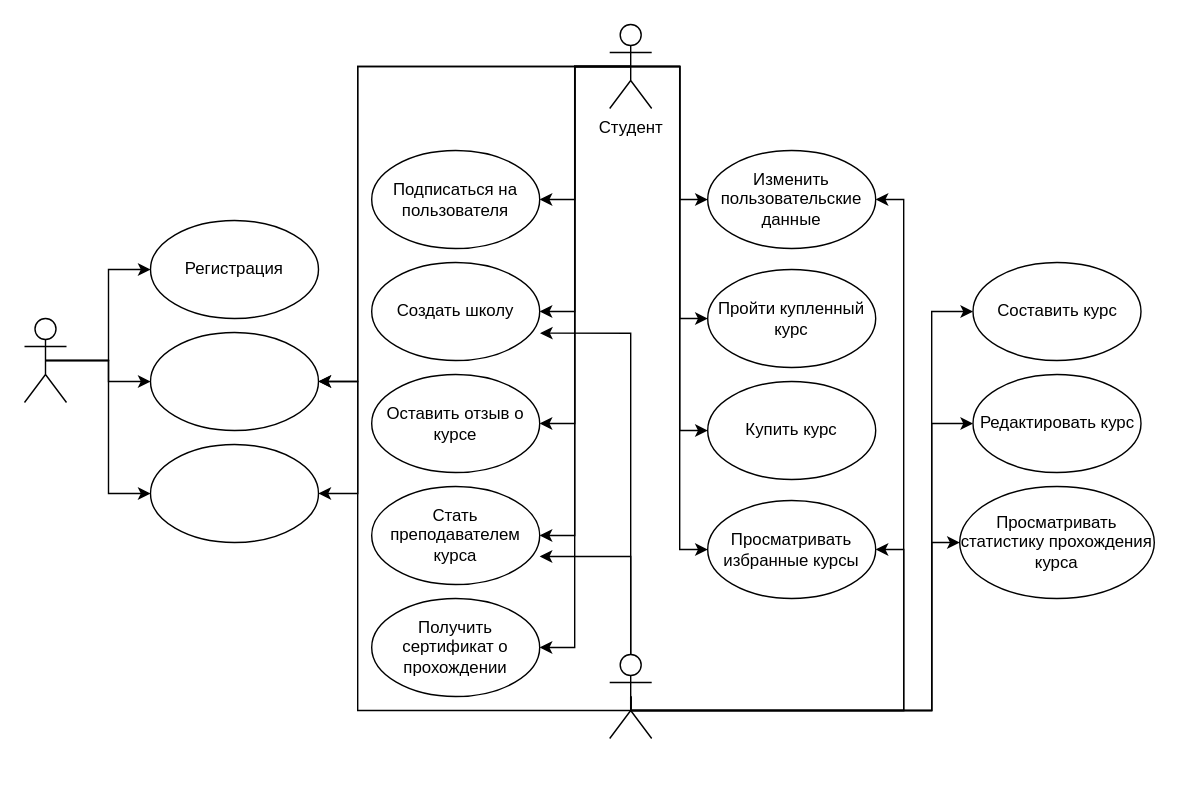
This 1179x792 diagram has some shape labels left out. Each missing label, with the box of its shape:
Аутентификация: (149, 331, 318, 430)
Гость: (23, 317, 66, 402)
Преподаватель: (608, 653, 652, 738)
Просматривать описание курсов: (149, 443, 318, 542)
